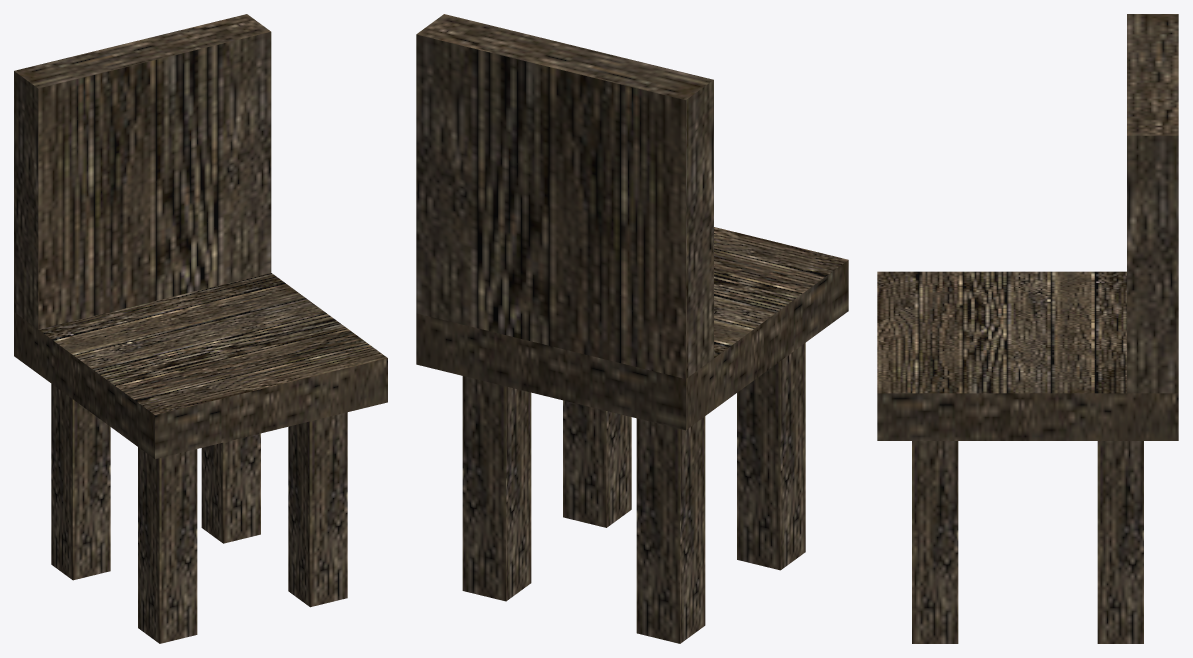
File: Chair.fbx
The picture shows the model from 3 angles, left to right: view 1: azimuth 30°, elevation 25°; view 2: azimuth 150°, elevation 25°; view 3: azimuth 270°, elevation 25°; orthographic projection. The views are drawn at different scales.
Parts seen in each view (by area): view 1: Chair; view 2: Chair; view 3: Chair.
Part boxes in pixels (x1,y1,x2,y2): Chair: (14, 14, 387, 643); Chair: (416, 14, 848, 643); Chair: (877, 14, 1178, 643).
Bounding box in the file's own units: 0.496 × 0.99 × 0.5192.
